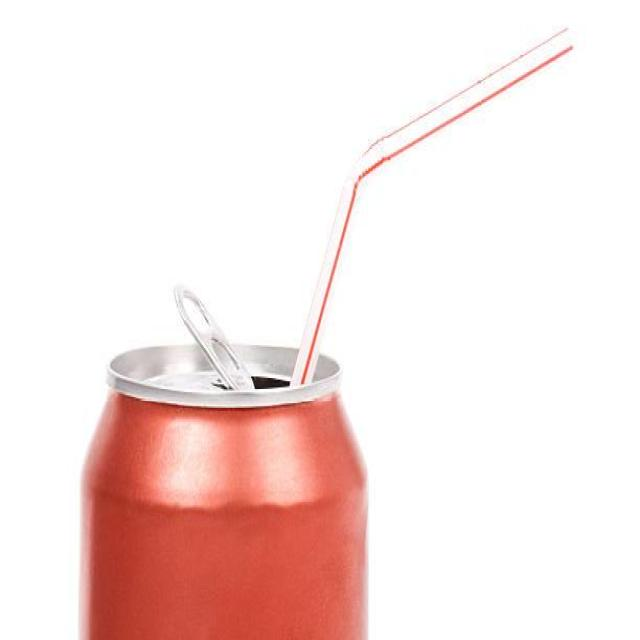can: (76, 330, 370, 640)
pop tab: (172, 273, 256, 398)
